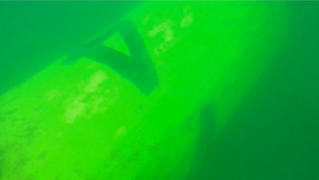4: (59, 19, 160, 96), (184, 101, 217, 180)
pipe: (1, 1, 289, 180)
